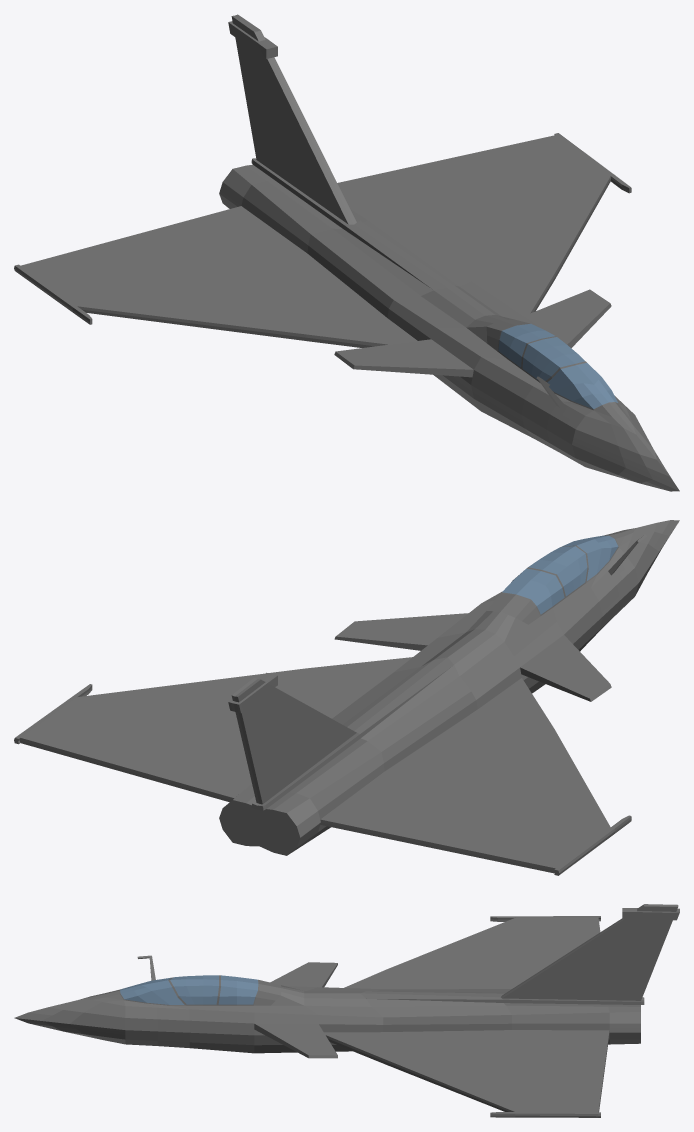
The model's file is rafale.glb.
3 renders of one model, top to bottom at view 1: azimuth 30°, elevation 25°; view 2: azimuth 150°, elevation 25°; view 3: azimuth 270°, elevation 25°, orthographic. The views are drawn at different scales.
Visible parts, largest first — view 1: Cube; view 2: Cube; view 3: Cube.
Part boxes in pixels (x1,y1,x2,y2): Cube: (14,14,679,491); Cube: (14,520,679,875); Cube: (14,904,679,1117).
Size of the model in its own units: 7.45 by 2.35 by 10.56.
